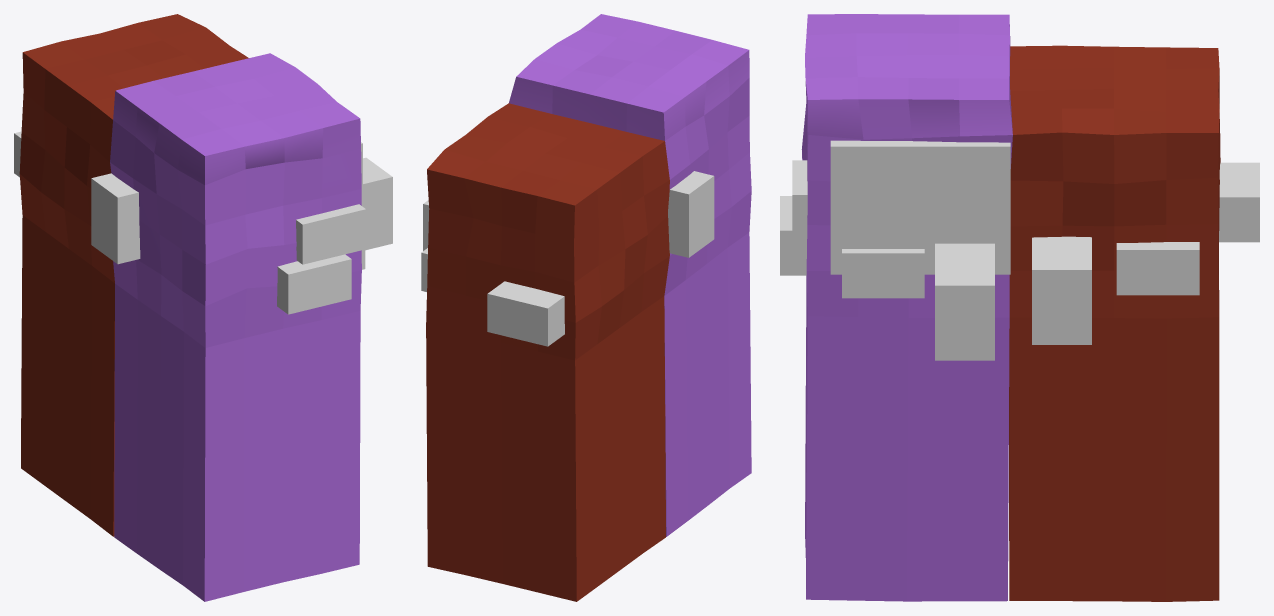
File: guitarandspa.fbx
The picture shows the model from 3 angles, left to right: view 1: azimuth 30°, elevation 25°; view 2: azimuth 150°, elevation 25°; view 3: azimuth 270°, elevation 25°; orthographic projection. The views are drawn at different scales.
Visible parts, largest first — view 1: House, House.001, Cube.002, Cube.013, Cube.004, Cube.011; view 2: House.001, House, Cube.015, Cube.002; view 3: House.001, House, Cube.001, Cube.011, Cube.017, Cube.016, Cube.012, Cube.015, Cube.013, Cube.004.
Boxes of the visible parts, x1=… form: House: x1=110, y1=53, x2=361, y2=601; House.001: x1=19, y1=14, x2=248, y2=536; Cube.002: x1=91, y1=173, x2=140, y2=264; Cube.013: x1=277, y1=254, x2=351, y2=314; Cube.004: x1=296, y1=204, x2=365, y2=264; Cube.011: x1=363, y1=157, x2=392, y2=250; House.001: x1=426, y1=103, x2=669, y2=601; House: x1=509, y1=14, x2=751, y2=536; Cube.015: x1=487, y1=281, x2=564, y2=346; Cube.002: x1=668, y1=171, x2=714, y2=257; House.001: x1=1009, y1=45, x2=1220, y2=601; House: x1=801, y1=14, x2=1012, y2=601; Cube.001: x1=830, y1=140, x2=1010, y2=274; Cube.011: x1=935, y1=243, x2=994, y2=360; Cube.017: x1=1032, y1=236, x2=1091, y2=344; Cube.016: x1=1116, y1=242, x2=1199, y2=295; Cube.012: x1=842, y1=249, x2=924, y2=298; Cube.015: x1=1219, y1=162, x2=1259, y2=242; Cube.013: x1=780, y1=196, x2=806, y2=275; Cube.004: x1=792, y1=160, x2=807, y2=240.
Size of the model in its own units: 347 by 552 by 476.
